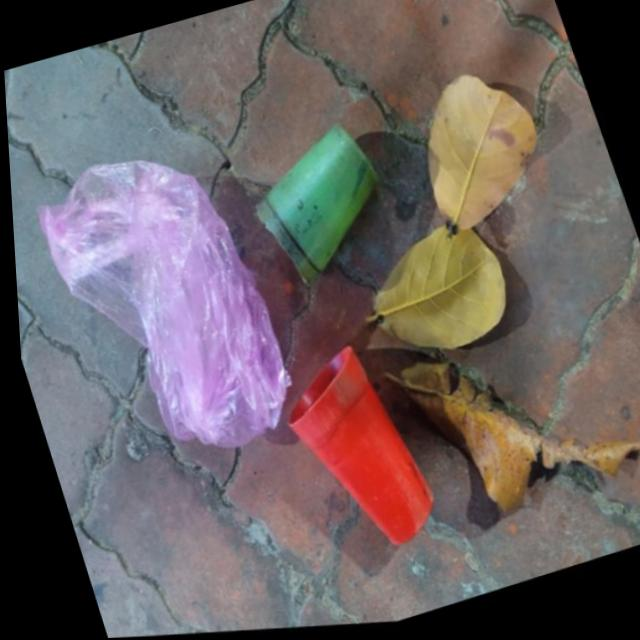leaf: (225, 310, 493, 597), (202, 72, 449, 332)
metal: (5, 89, 358, 521)
plastic bag: (343, 291, 640, 596), (377, 32, 593, 280), (322, 192, 558, 403)
